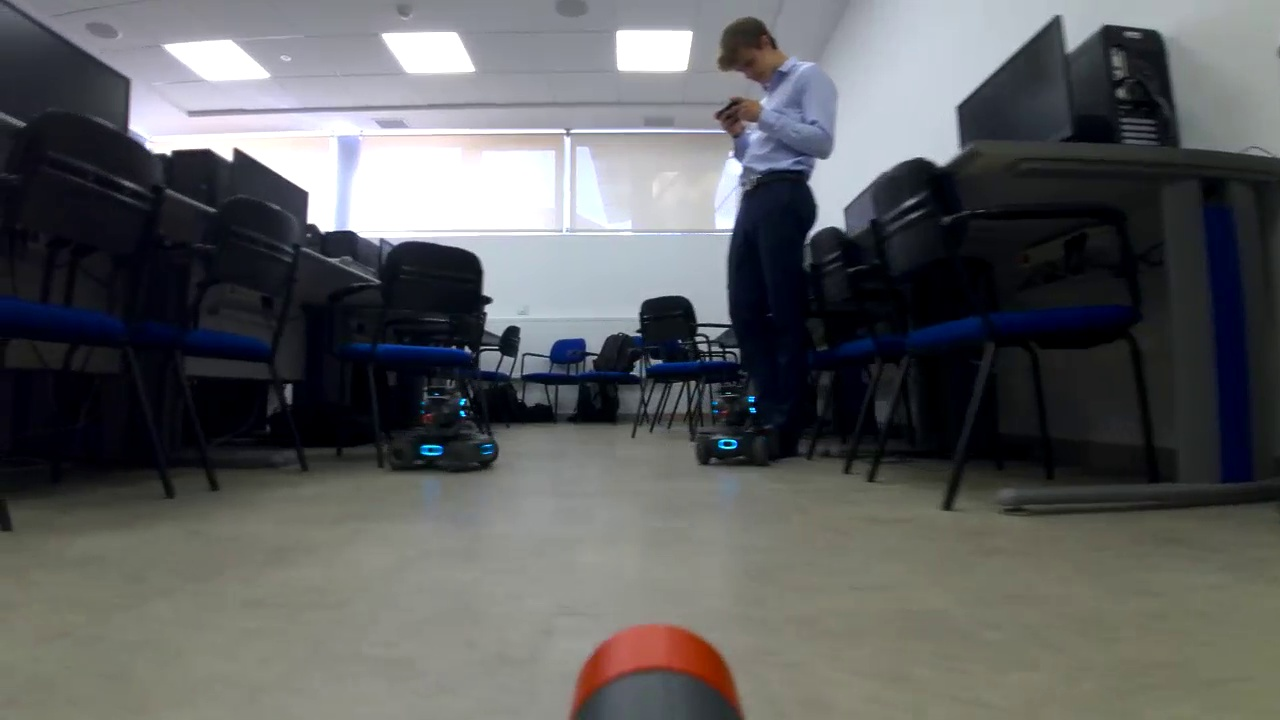robot: (383, 378, 500, 474), (696, 381, 775, 470)
